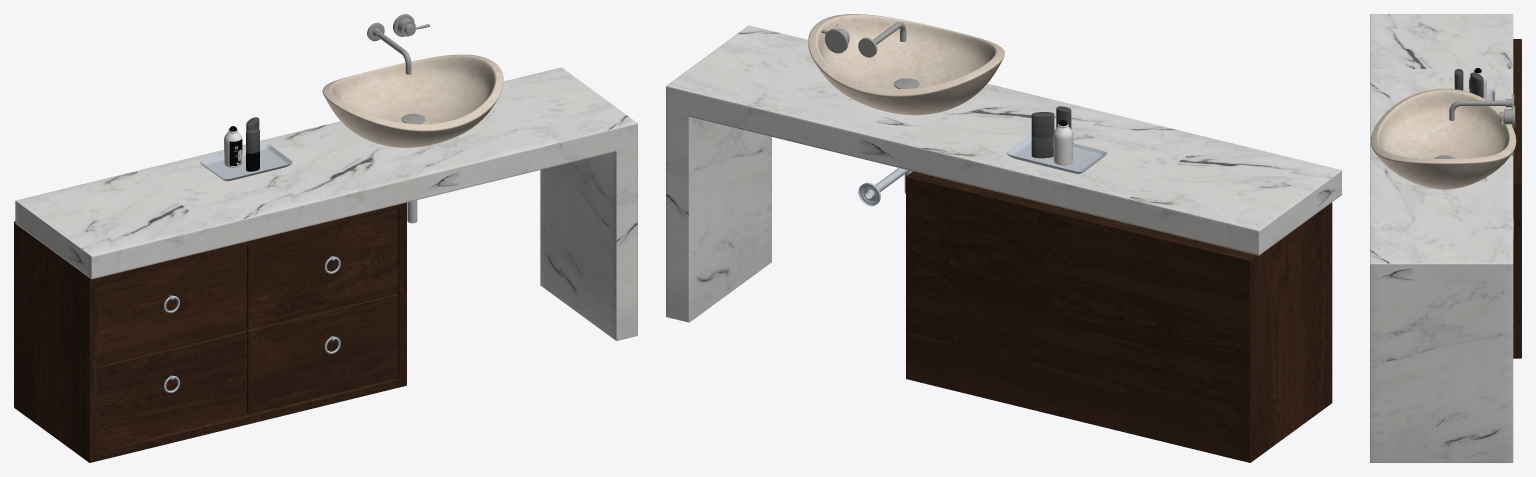
The model's file is SinkwithCabinet.glb.
3 renders of one model, left to right at view 1: azimuth 30°, elevation 25°; view 2: azimuth 150°, elevation 25°; view 3: azimuth 270°, elevation 25°, orthographic. The views are drawn at different scales.
Parts seen in each view (by area): view 1: A23DOBJ_004, A23DOBJ_005, A23DOBJ_002, A23DOBJ_006, A23DOBJ_003, A23DOBJ_010; view 2: A23DOBJ_004, A23DOBJ_005, A23DOBJ_002, A23DOBJ_006, A23DOBJ_003, A23DOBJ_007, A23DOBJ_010; view 3: A23DOBJ_005, A23DOBJ_002, A23DOBJ_004, A23DOBJ_003, A23DOBJ_007, A23DOBJ_008, A23DOBJ_010.
Boxes of the visible parts, x1,y1,x2,y2 form: A23DOBJ_004: [14, 202, 406, 462]; A23DOBJ_005: [15, 67, 637, 340]; A23DOBJ_002: [322, 54, 503, 147]; A23DOBJ_006: [200, 144, 292, 181]; A23DOBJ_003: [367, 14, 429, 74]; A23DOBJ_010: [224, 126, 242, 167]; A23DOBJ_004: [906, 171, 1332, 462]; A23DOBJ_005: [666, 25, 1341, 322]; A23DOBJ_002: [808, 14, 1004, 115]; A23DOBJ_006: [1006, 134, 1107, 173]; A23DOBJ_003: [821, 21, 906, 57]; A23DOBJ_007: [1031, 112, 1054, 158]; A23DOBJ_010: [1053, 120, 1073, 165]; A23DOBJ_005: [1370, 14, 1513, 462]; A23DOBJ_002: [1371, 88, 1516, 189]; A23DOBJ_004: [1513, 39, 1521, 358]; A23DOBJ_003: [1449, 94, 1515, 127]; A23DOBJ_007: [1470, 72, 1483, 97]; A23DOBJ_008: [1454, 69, 1463, 90]; A23DOBJ_010: [1469, 68, 1486, 99].
Size of the model in its own units: 2.07 by 1.1 by 0.5304.
Materials: 10 (10 with a texture image).
